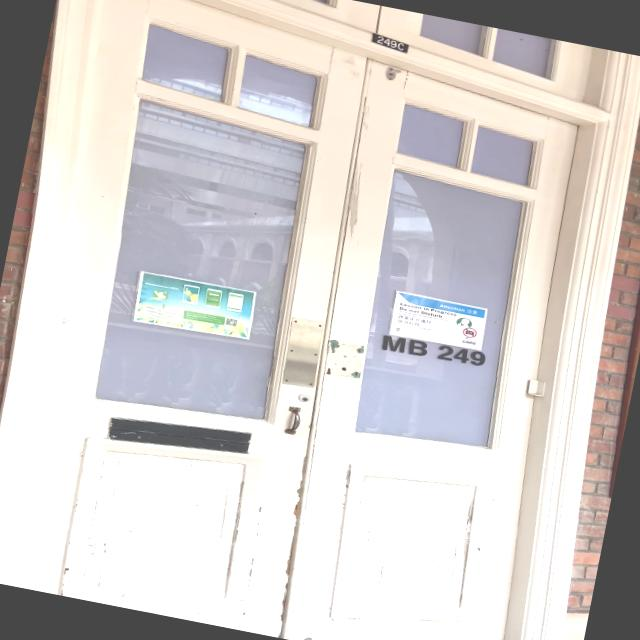room249c: (362, 28, 414, 58)
room249cWindow: (378, 329, 489, 370)
